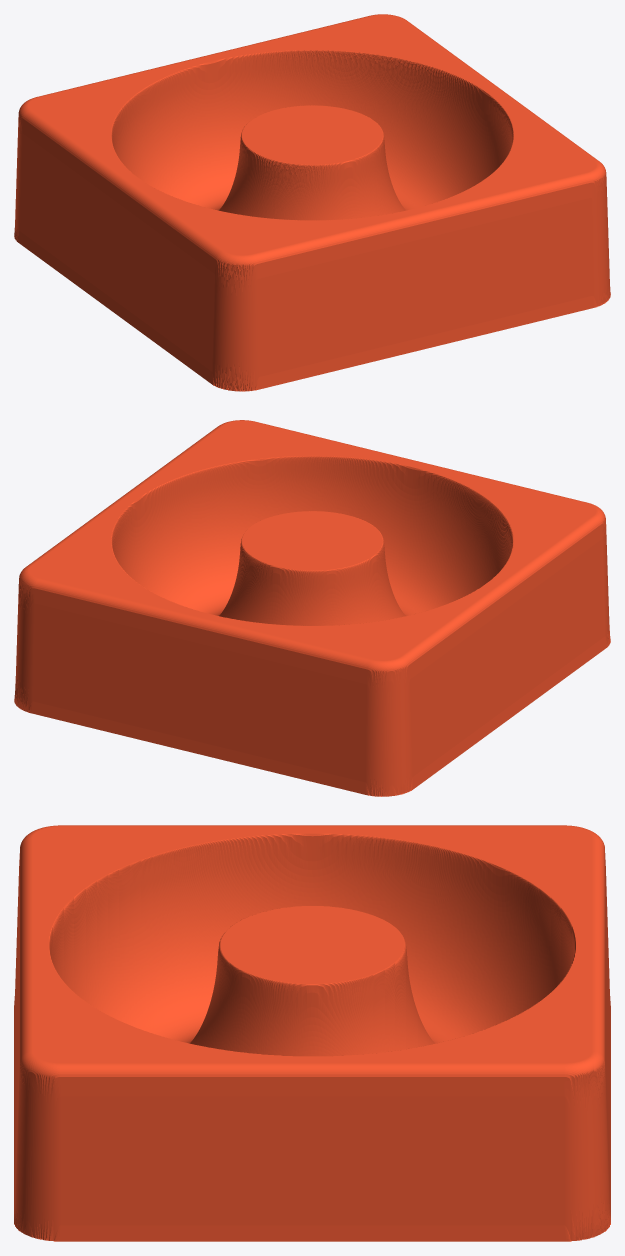
Rendered from mold.glb.
3 renders of one model, top to bottom at view 1: azimuth 30°, elevation 25°; view 2: azimuth 150°, elevation 25°; view 3: azimuth 270°, elevation 25°, orthographic. The views are drawn at different scales.
Parts seen in each view (by area): view 1: geometry_0; view 2: geometry_0; view 3: geometry_0.
Boxes of the visible parts, left/top/right/bottom form: geometry_0: left=14, top=14, right=610, bottom=391; geometry_0: left=14, top=420, right=610, bottom=796; geometry_0: left=14, top=825, right=610, bottom=1241.
Bounding box in the file's own units: 0.1158 × 0.0365 × 0.1158.
